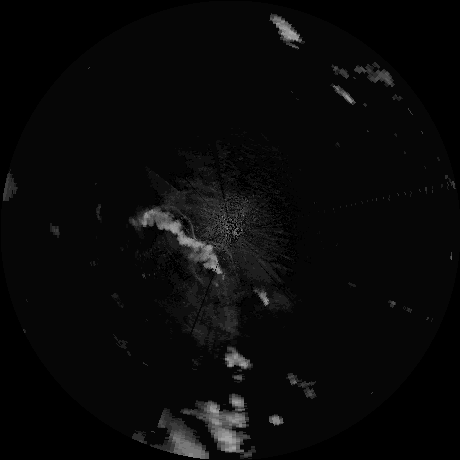frontgust: (198, 239, 235, 273), (161, 204, 195, 239)
